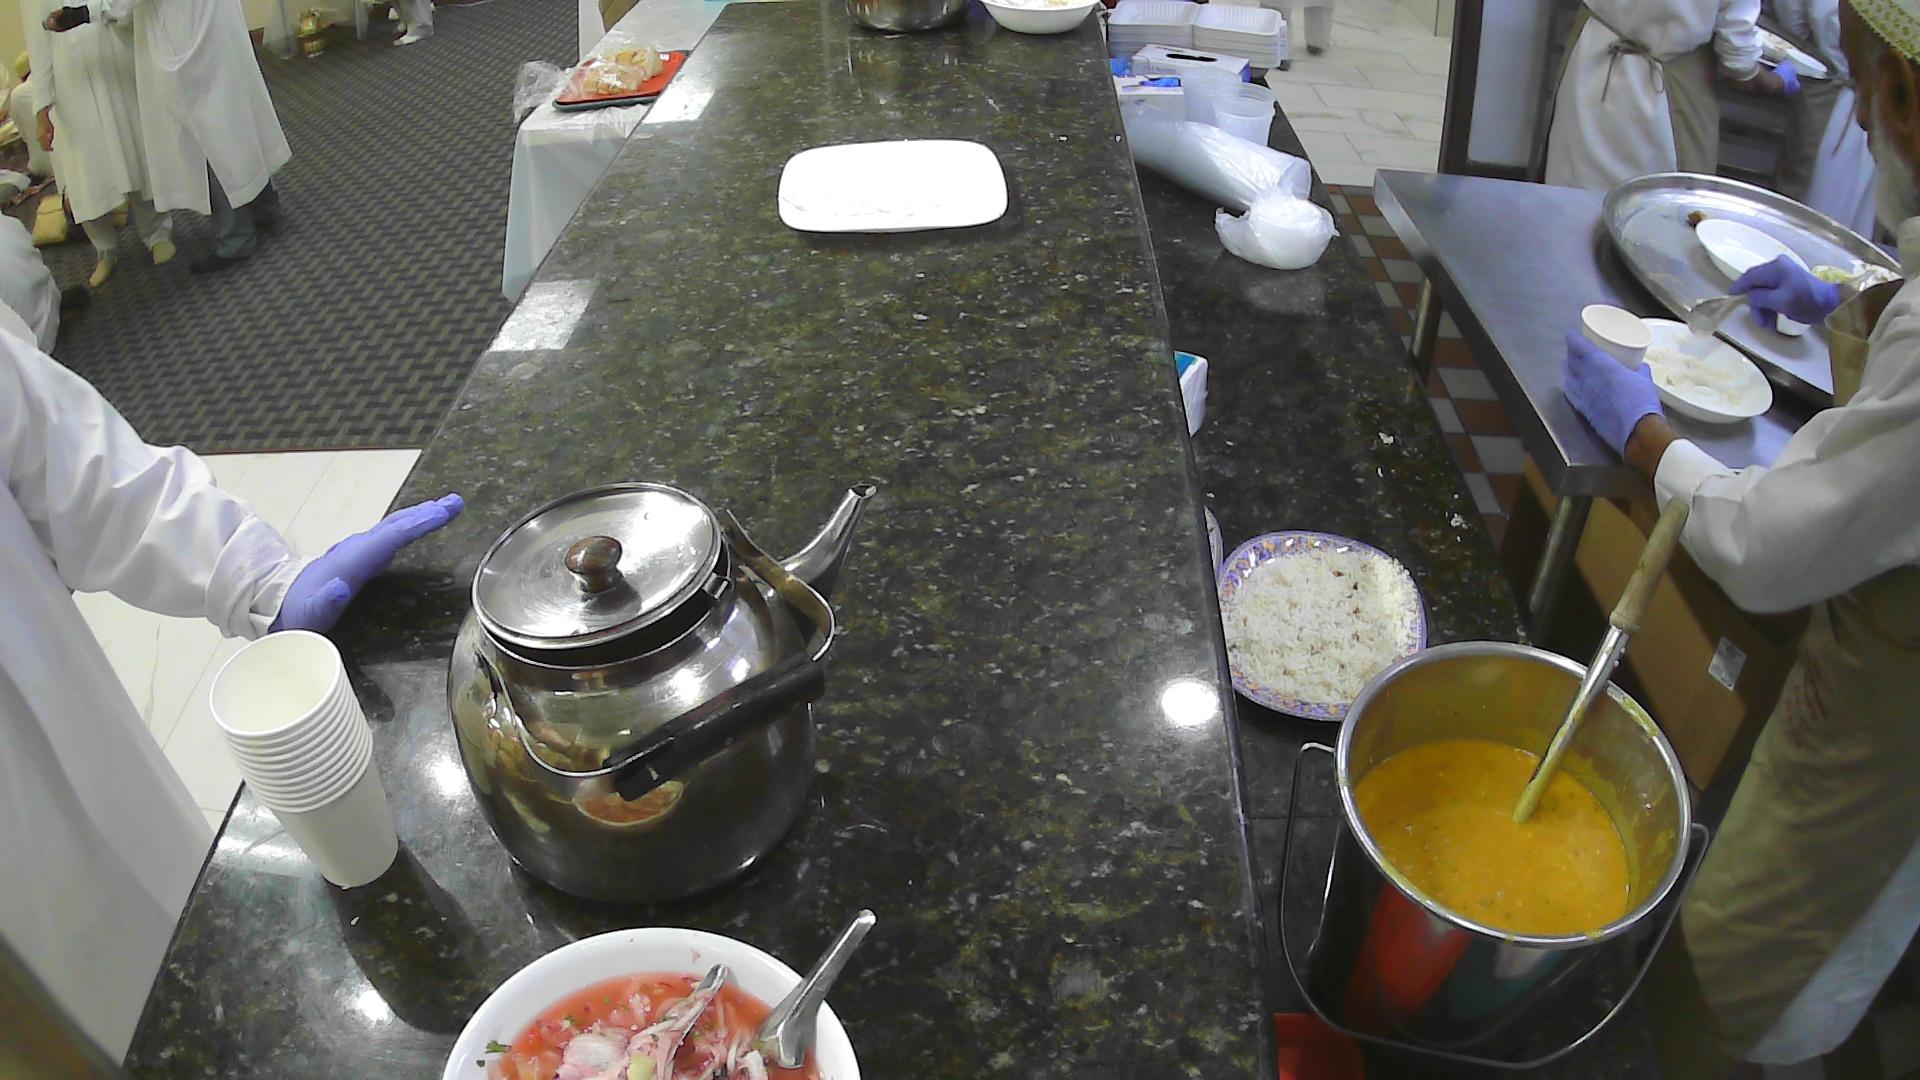thaal: (1600, 170, 1905, 410)
